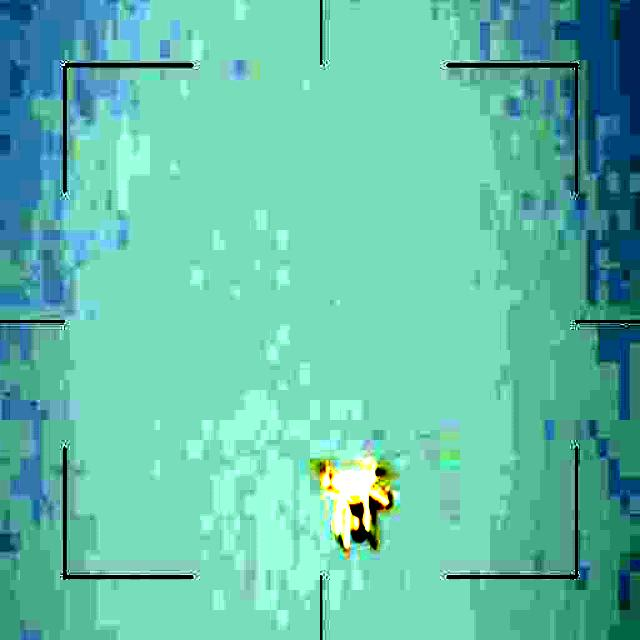bird: (314, 452, 405, 555)
